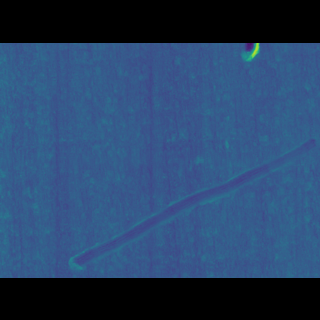Loch: (65, 141, 319, 242), (239, 73, 264, 91)
